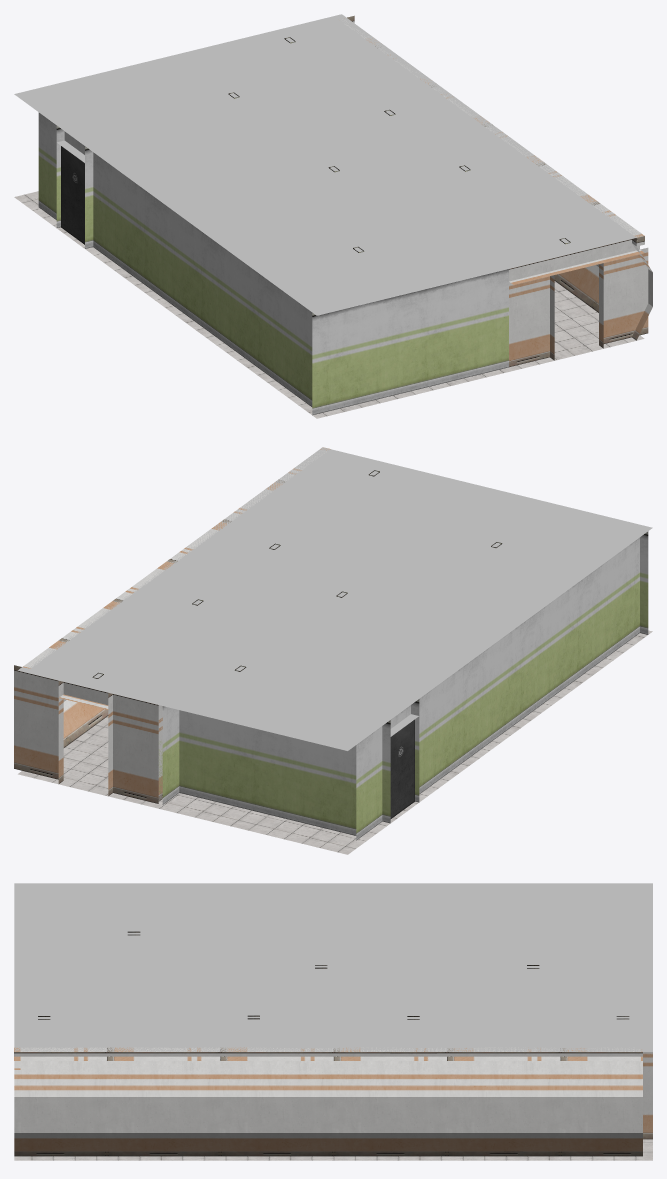
The model's file is RZ_room2_medibay.gltf.
3 renders of one model, top to bottom at view 1: azimuth 30°, elevation 25°; view 2: azimuth 150°, elevation 25°; view 3: azimuth 270°, elevation 25°, orthographic. The views are drawn at different scales.
Parts seen in each view (by area): view 1: RZ_room2_medibay; view 2: RZ_room2_medibay; view 3: RZ_room2_medibay.
Boxes of the visible parts, x1,y1,x2,y2 form: RZ_room2_medibay: (14,14,652,418); RZ_room2_medibay: (14,447,652,854); RZ_room2_medibay: (14,883,652,1160).
Size of the model in its own units: 13.12 by 3.87 by 20.49.
